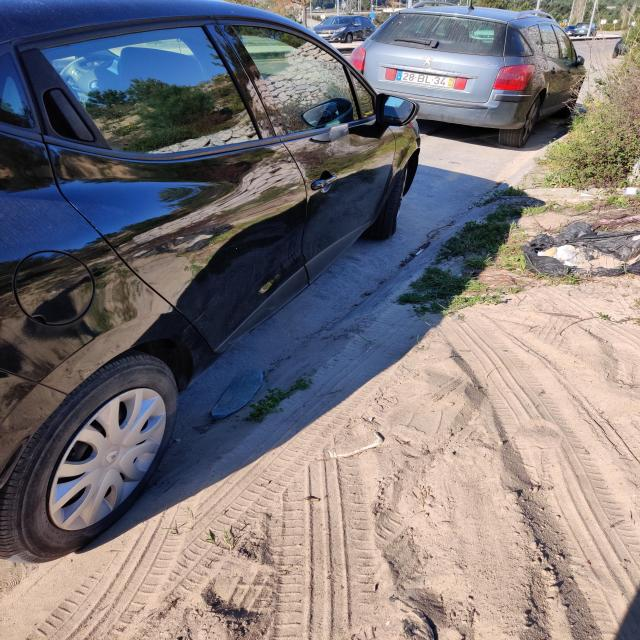litter: (522, 221, 638, 277), (211, 368, 262, 418), (327, 427, 383, 457), (415, 249, 423, 255)
